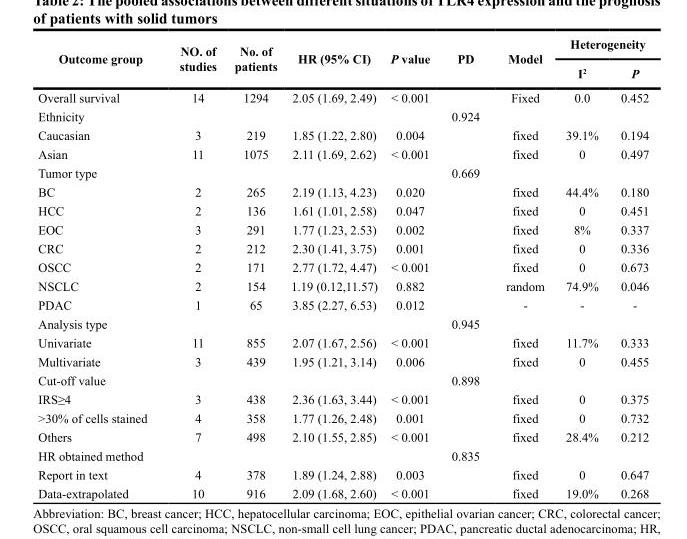table: (37, 36, 648, 500)
table column: (37, 36, 162, 500), (283, 36, 383, 500), (162, 36, 224, 500), (492, 36, 554, 500), (224, 36, 283, 500), (383, 36, 440, 500), (554, 36, 608, 500), (440, 36, 492, 500), (608, 36, 648, 500)
table column header: (37, 36, 648, 85)
table row: (37, 58, 648, 85), (37, 36, 648, 58), (37, 85, 648, 106), (37, 106, 648, 125), (37, 125, 648, 144), (37, 144, 648, 163), (37, 181, 648, 200), (37, 200, 648, 219), (37, 219, 648, 238), (37, 238, 648, 257), (37, 257, 648, 276), (37, 276, 648, 295), (37, 313, 648, 332), (37, 332, 648, 351), (37, 351, 648, 370), (37, 370, 648, 389), (37, 389, 648, 408), (37, 408, 648, 427), (37, 445, 648, 464), (37, 464, 648, 483), (37, 163, 648, 181), (37, 295, 648, 313), (37, 427, 648, 445), (37, 483, 648, 500)
table spanning cell: (37, 36, 162, 85), (283, 36, 383, 85), (162, 36, 224, 85), (492, 36, 554, 85), (224, 36, 283, 85), (383, 36, 440, 85), (440, 36, 492, 85), (554, 36, 648, 58)
